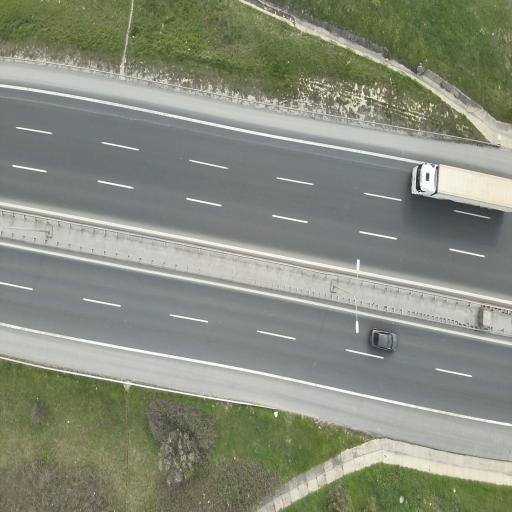car: (370, 330, 397, 350)
truck: (412, 163, 511, 211)
